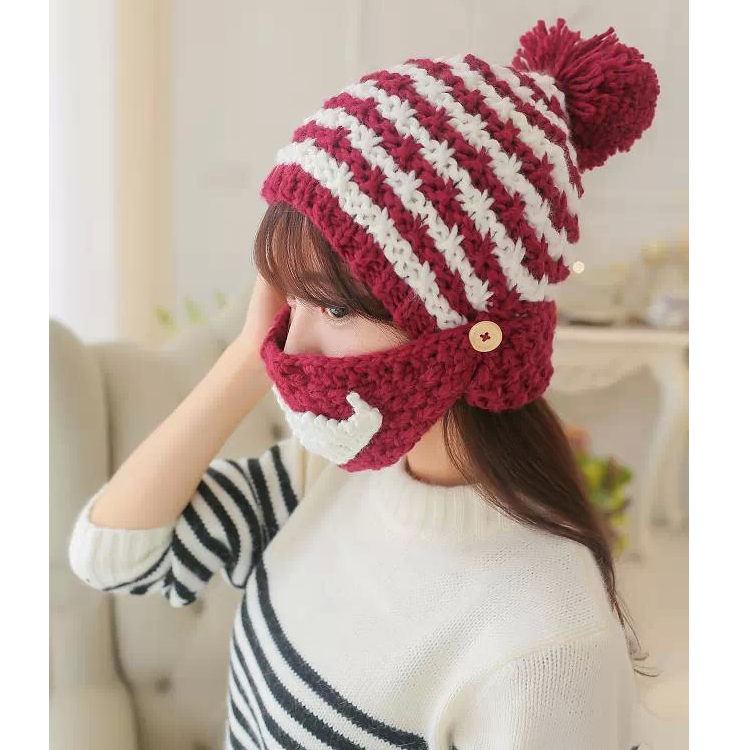face_mask: (260, 194, 456, 462)
